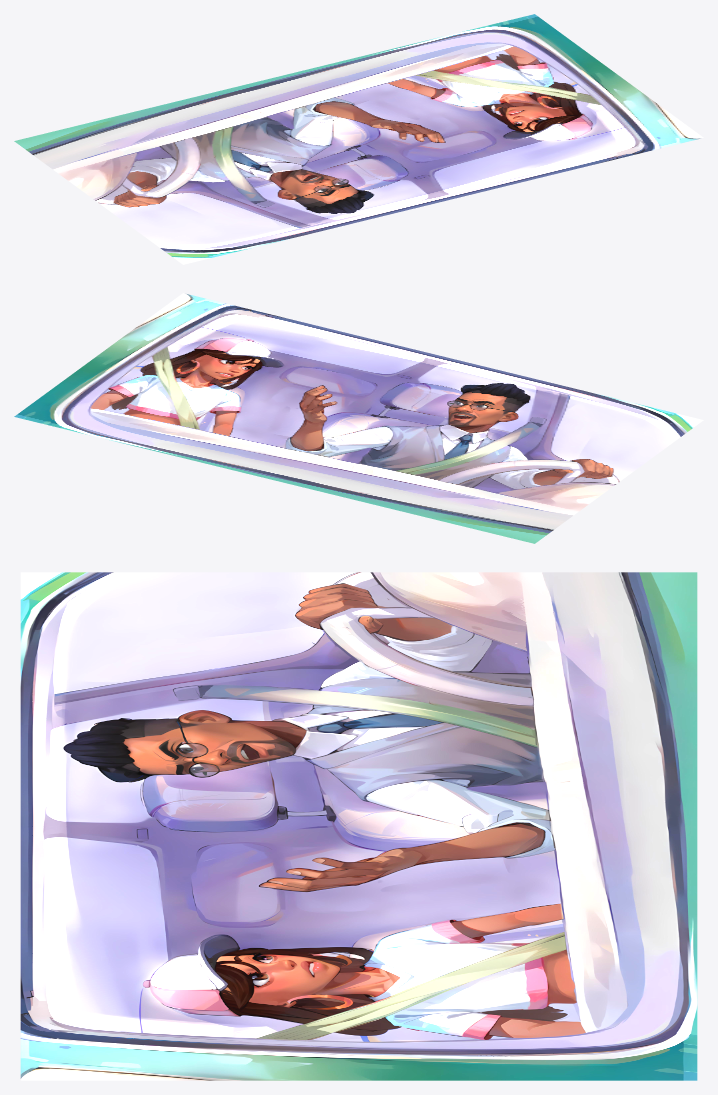
Rendered from cs_car3.glb.
The picture shows the model from 3 angles, top to bottom: view 1: azimuth 30°, elevation 25°; view 2: azimuth 150°, elevation 25°; view 3: azimuth 270°, elevation 25°; orthographic projection. The views are drawn at different scales.
Visible parts, largest first — view 1: 01; view 2: 01; view 3: 01.
Part boxes in pixels (<box>): 01: <box>14,14,703,264</box>; 01: <box>14,293,703,543</box>; 01: <box>20,572,697,1080</box>.
Bounding box in the file's own units: 38.4 × 0 × 21.6.
16 materials, 16 textured.
